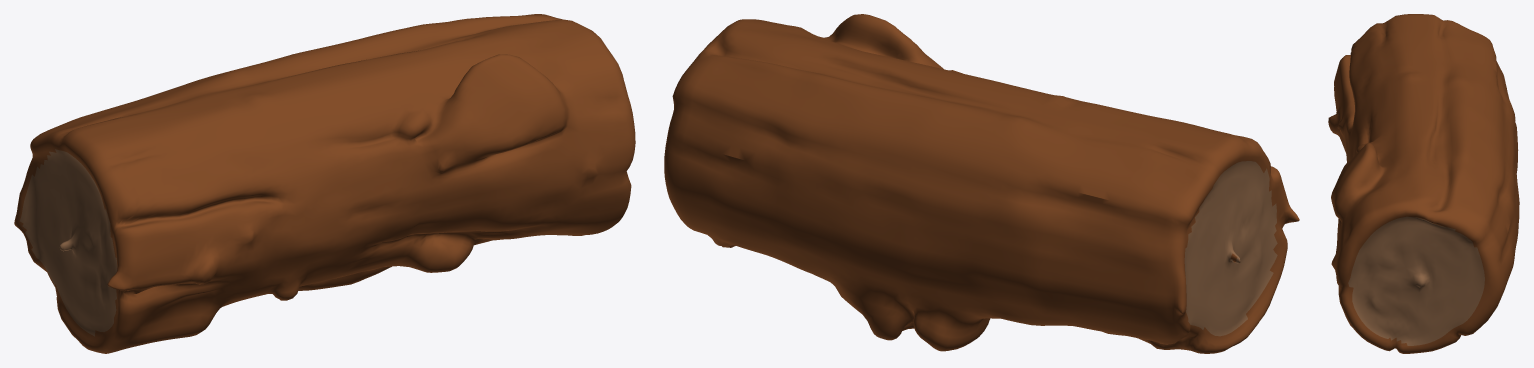
The model's file is logfix.fbx.
3 renders of one model, left to right at view 1: azimuth 30°, elevation 25°; view 2: azimuth 150°, elevation 25°; view 3: azimuth 270°, elevation 25°, orthographic. The views are drawn at different scales.
Visible parts, largest first — view 1: Mesh0; view 2: Mesh0; view 3: Mesh0.
Part boxes in pixels (x1,y1,x2,y2): Mesh0: (14,14,635,353); Mesh0: (664,14,1299,353); Mesh0: (1328,14,1519,353).
Bounding box in the file's own units: 199 × 87.12 × 80.37.
